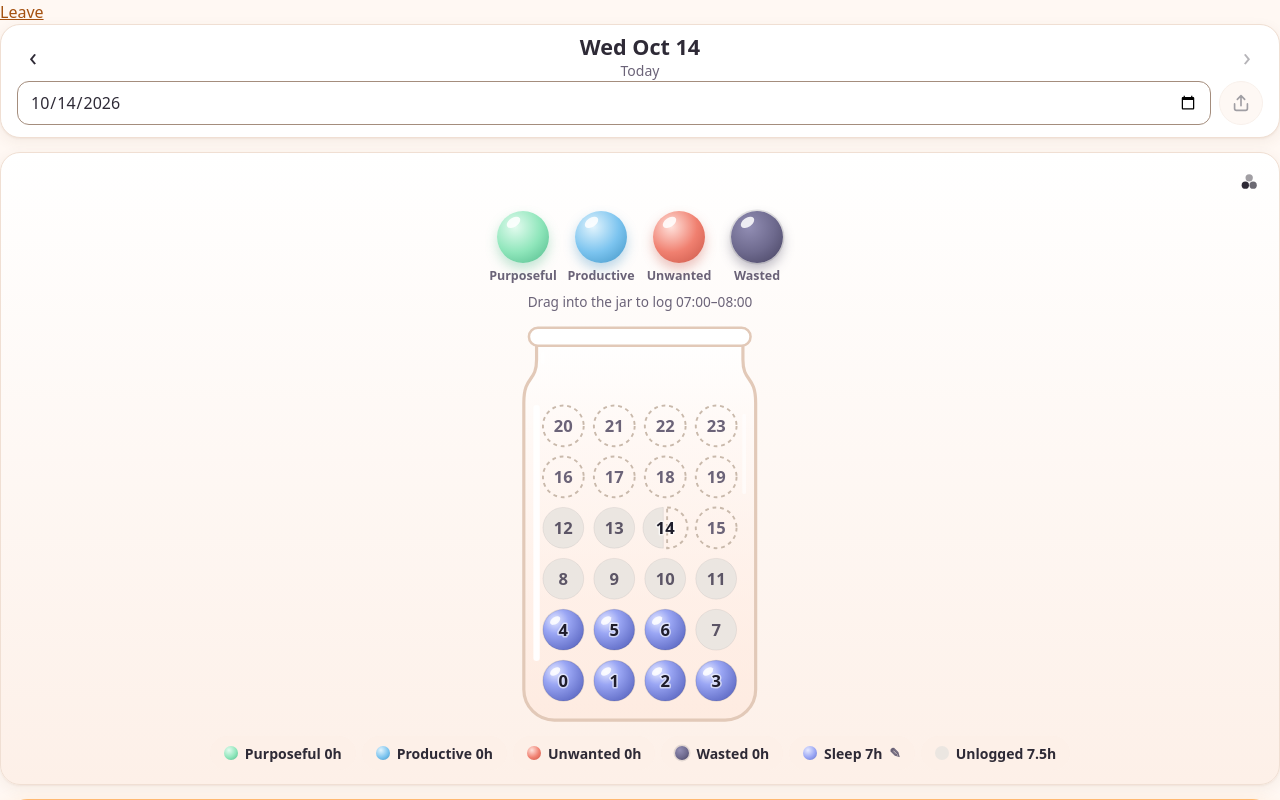
it: DayView drag-to-drop tray › dismisses the drop toast when the Day view unmounts
Press the mouse on the button named "Log 07:00–08:00 as Productive" at (601, 237), box [575, 211, 627, 263]
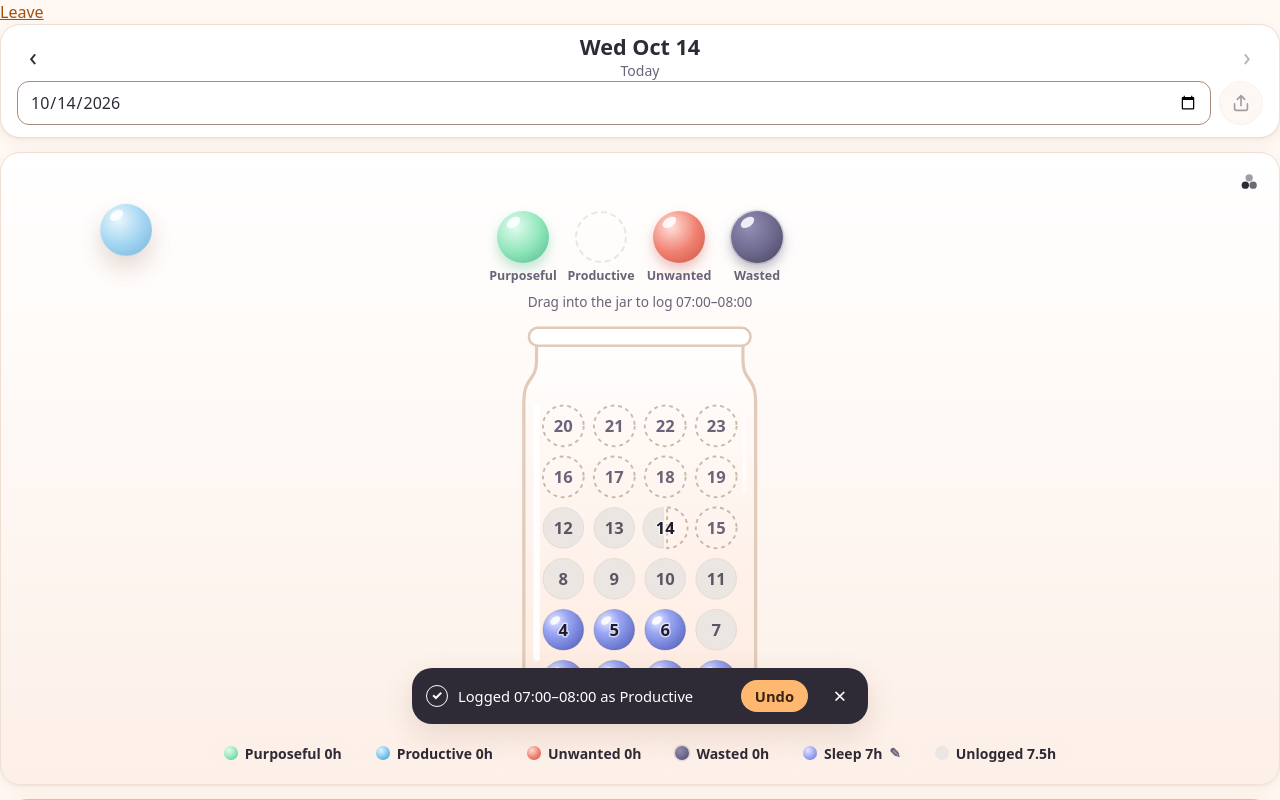
Result: the button "Undo" is shown at [741, 680, 808, 712]
Click the link "Leave" at (22, 12), box [0, 1, 44, 23]
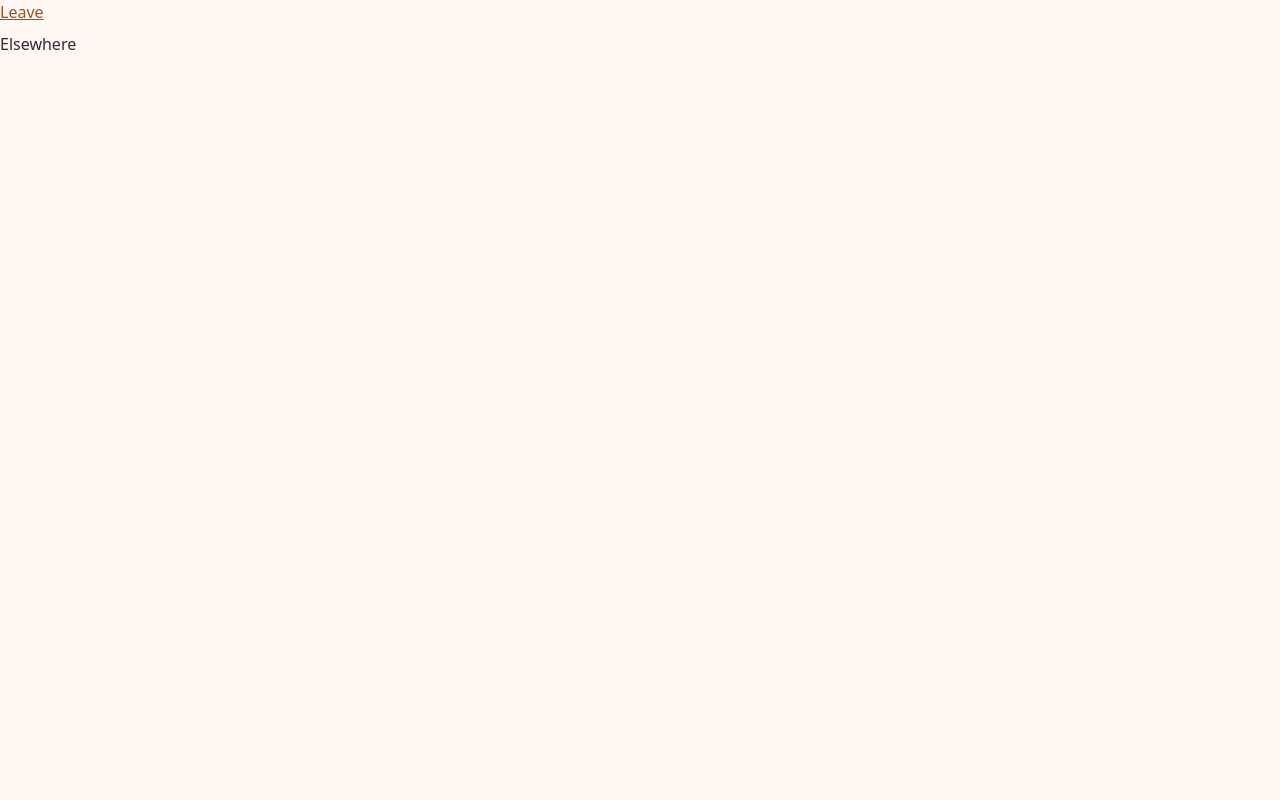
Result: the text "Elsewhere" is shown at [0, 33, 76, 55]
Result: the button "Undo" is gone
Result: the text "Logged 07:00–08:00 as Productive" is gone
